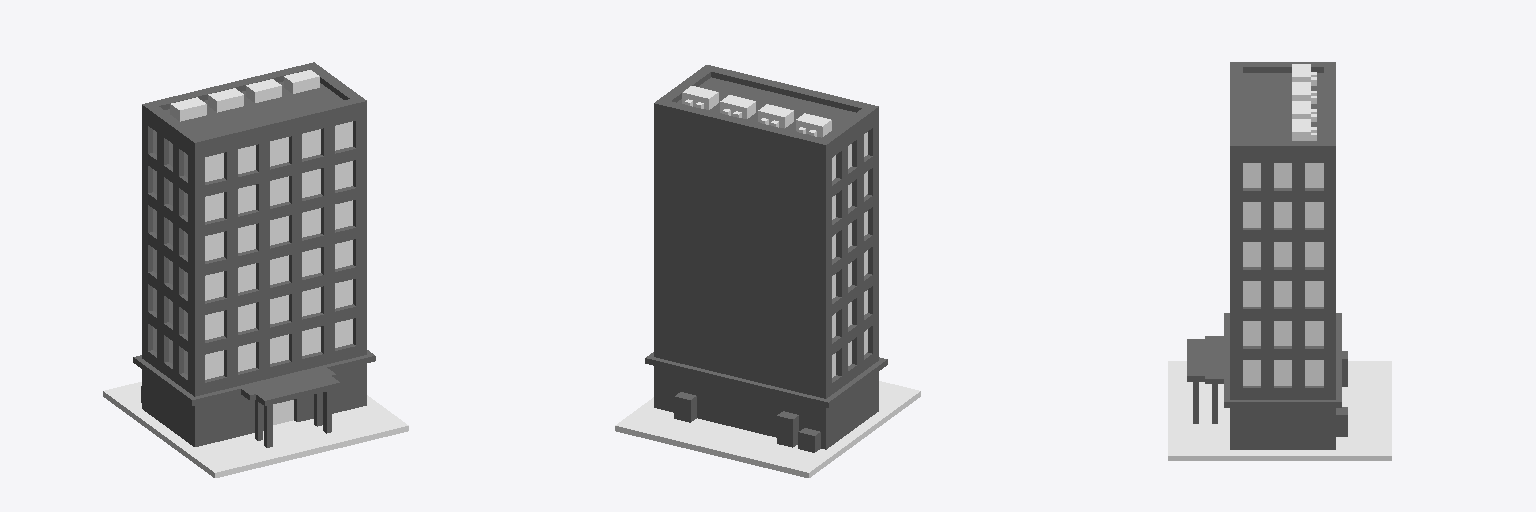
3 views of the same model, side by side, from view 1: azimuth 30°, elevation 25°; view 2: azimuth 150°, elevation 25°; view 3: azimuth 270°, elevation 25° (orthographic).
Parts seen in each view (by area): view 1: 7; view 2: 7; view 3: 7.
Boxes of the visible parts, box(x1,y1,x2,y2) form: 7: box(103, 62, 408, 477); 7: box(615, 65, 920, 477); 7: box(1168, 62, 1391, 460).
Bounding box in the file's own units: 36 × 56 × 36.
Materials: 1 (1 with a texture image).